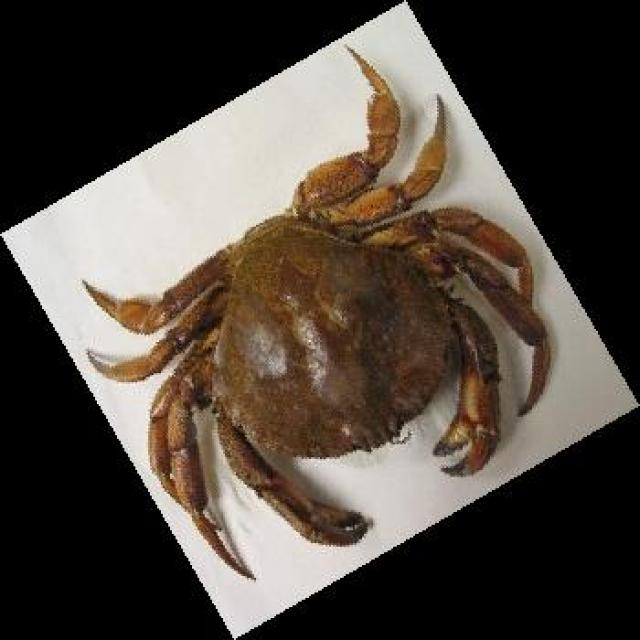Native Rock crab: (82, 48, 550, 578)
